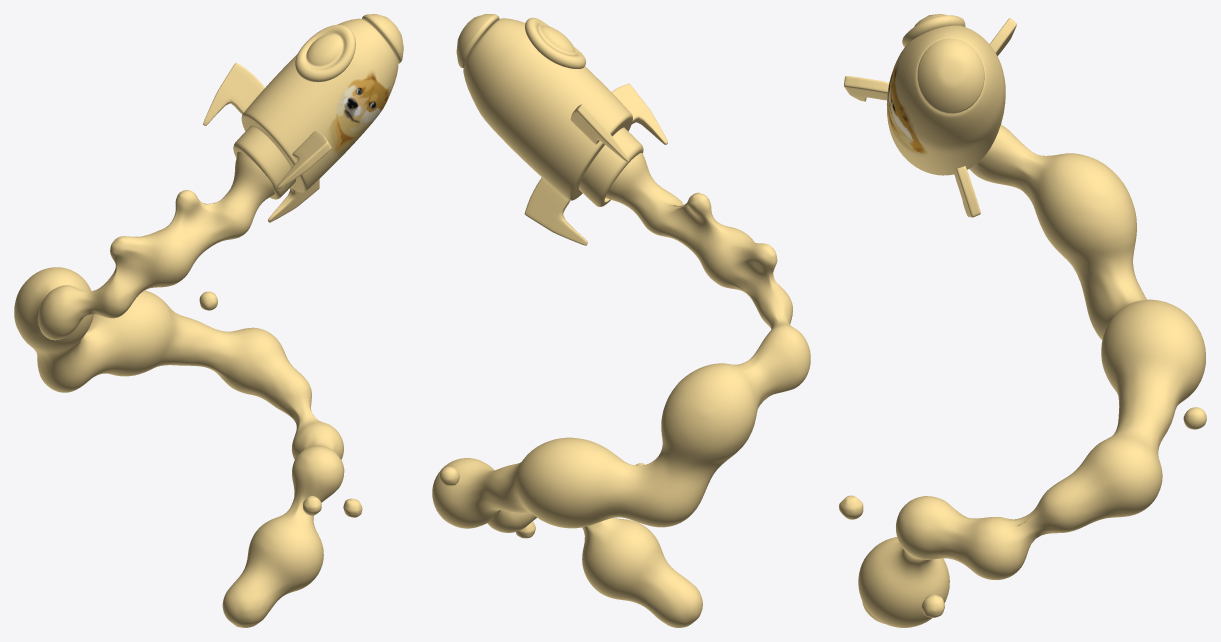
File: cohetedoge_v1.glb
The picture shows the model from 3 angles, left to right: view 1: azimuth 30°, elevation 25°; view 2: azimuth 150°, elevation 25°; view 3: azimuth 270°, elevation 25°; orthographic projection. The views are drawn at different scales.
Parts seen in each view (by area): view 1: COHETE DOGE; view 2: COHETE DOGE; view 3: COHETE DOGE.
Boxes of the visible parts, x1=… form: COHETE DOGE: x1=14, y1=14, x2=403, y2=627; COHETE DOGE: x1=432, y1=14, x2=810, y2=627; COHETE DOGE: x1=839, y1=14, x2=1206, y2=627.
Bounding box in the file's own units: 2.19 × 3.4 × 1.68.
1 material, 1 textured.
